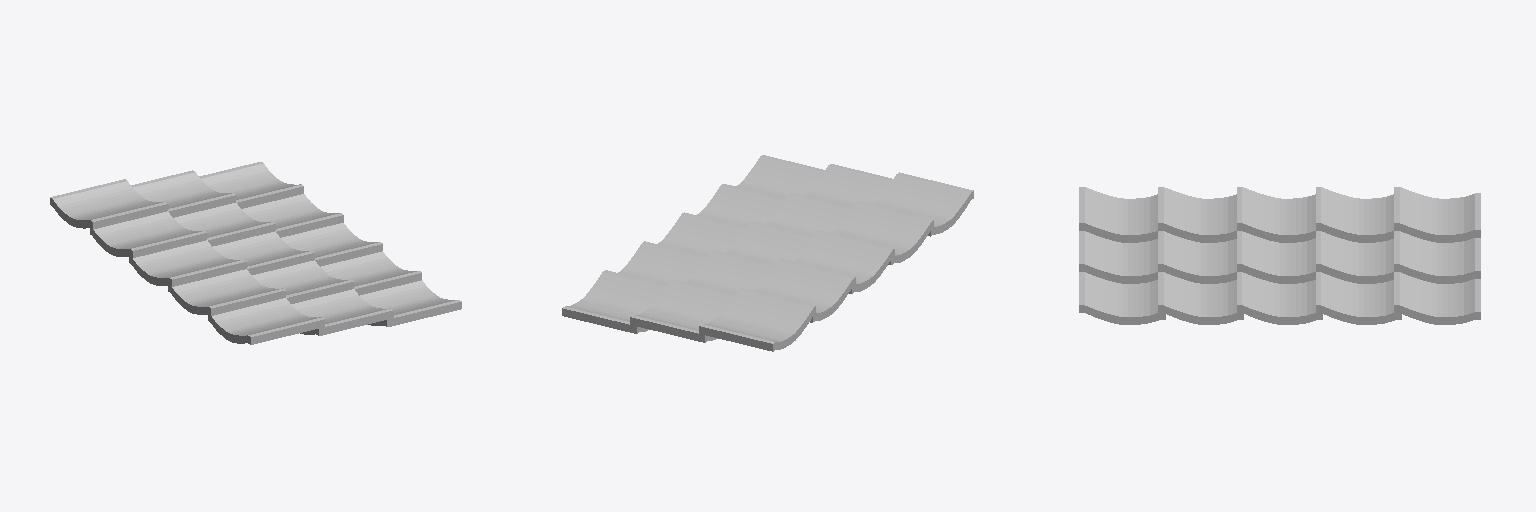
File: tiles2.obj
3 views of the same model, side by side, from view 1: azimuth 30°, elevation 25°; view 2: azimuth 150°, elevation 25°; view 3: azimuth 270°, elevation 25° (orthographic).
Parts seen in each view (by area): view 1: Cube.009, Cube.006, Cube.010, Cube.008, Cube.007, Cube.002, Cube.014, Cube.005, Cube.011, Cube.004, Cube.012, Cube.015 (+3 smaller); view 2: Cube.009, Cube.002, Cube.014, Cube.007, Cube.006, Cube.010, Cube.008, Cube.003, Cube.001, Cube.013, Cube.012, Cube.015 (+3 smaller); view 3: Cube.009, Cube.014, Cube.002, Cube.006, Cube.010, Cube.008, Cube.007, Cube.011, Cube.013, Cube.015, Cube.012, Cube.003 (+3 smaller).
Boxes of the visible parts, x1,y1,x2,y2 form: Cube.009: [50, 179, 167, 229]; Cube.006: [208, 298, 324, 344]; Cube.010: [168, 269, 285, 315]; Cube.008: [129, 240, 246, 286]; Cube.007: [90, 211, 206, 258]; Cube.002: [131, 170, 235, 217]; Cube.014: [199, 162, 303, 208]; Cube.005: [291, 289, 393, 335]; Cube.011: [360, 280, 461, 326]; Cube.004: [174, 203, 275, 246]; Cube.012: [242, 194, 343, 237]; Cube.015: [321, 251, 421, 295]; Cube.009: [699, 288, 815, 351]; Cube.002: [630, 279, 735, 342]; Cube.014: [562, 270, 667, 333]; Cube.007: [754, 259, 855, 322]; Cube.006: [873, 172, 973, 236]; Cube.010: [833, 201, 933, 264]; Cube.008: [794, 230, 894, 293]; Cube.003: [726, 221, 814, 264]; Cube.001: [765, 192, 853, 235]; Cube.013: [658, 212, 745, 255]; Cube.012: [618, 241, 706, 284]; Cube.015: [697, 184, 784, 227]; Cube.009: [1394, 187, 1480, 242]; Cube.014: [1394, 272, 1480, 324]; Cube.002: [1394, 231, 1480, 283]; Cube.006: [1079, 187, 1165, 242]; Cube.010: [1158, 187, 1243, 242]; Cube.008: [1237, 187, 1322, 242]; Cube.007: [1316, 187, 1401, 242]; Cube.011: [1079, 272, 1165, 324]; Cube.013: [1237, 272, 1322, 324]; Cube.015: [1158, 272, 1243, 324]; Cube.012: [1316, 272, 1401, 324]; Cube.003: [1237, 231, 1315, 283].
Bounding box in the file's own units: 22.6 × 3.64 × 37.2.